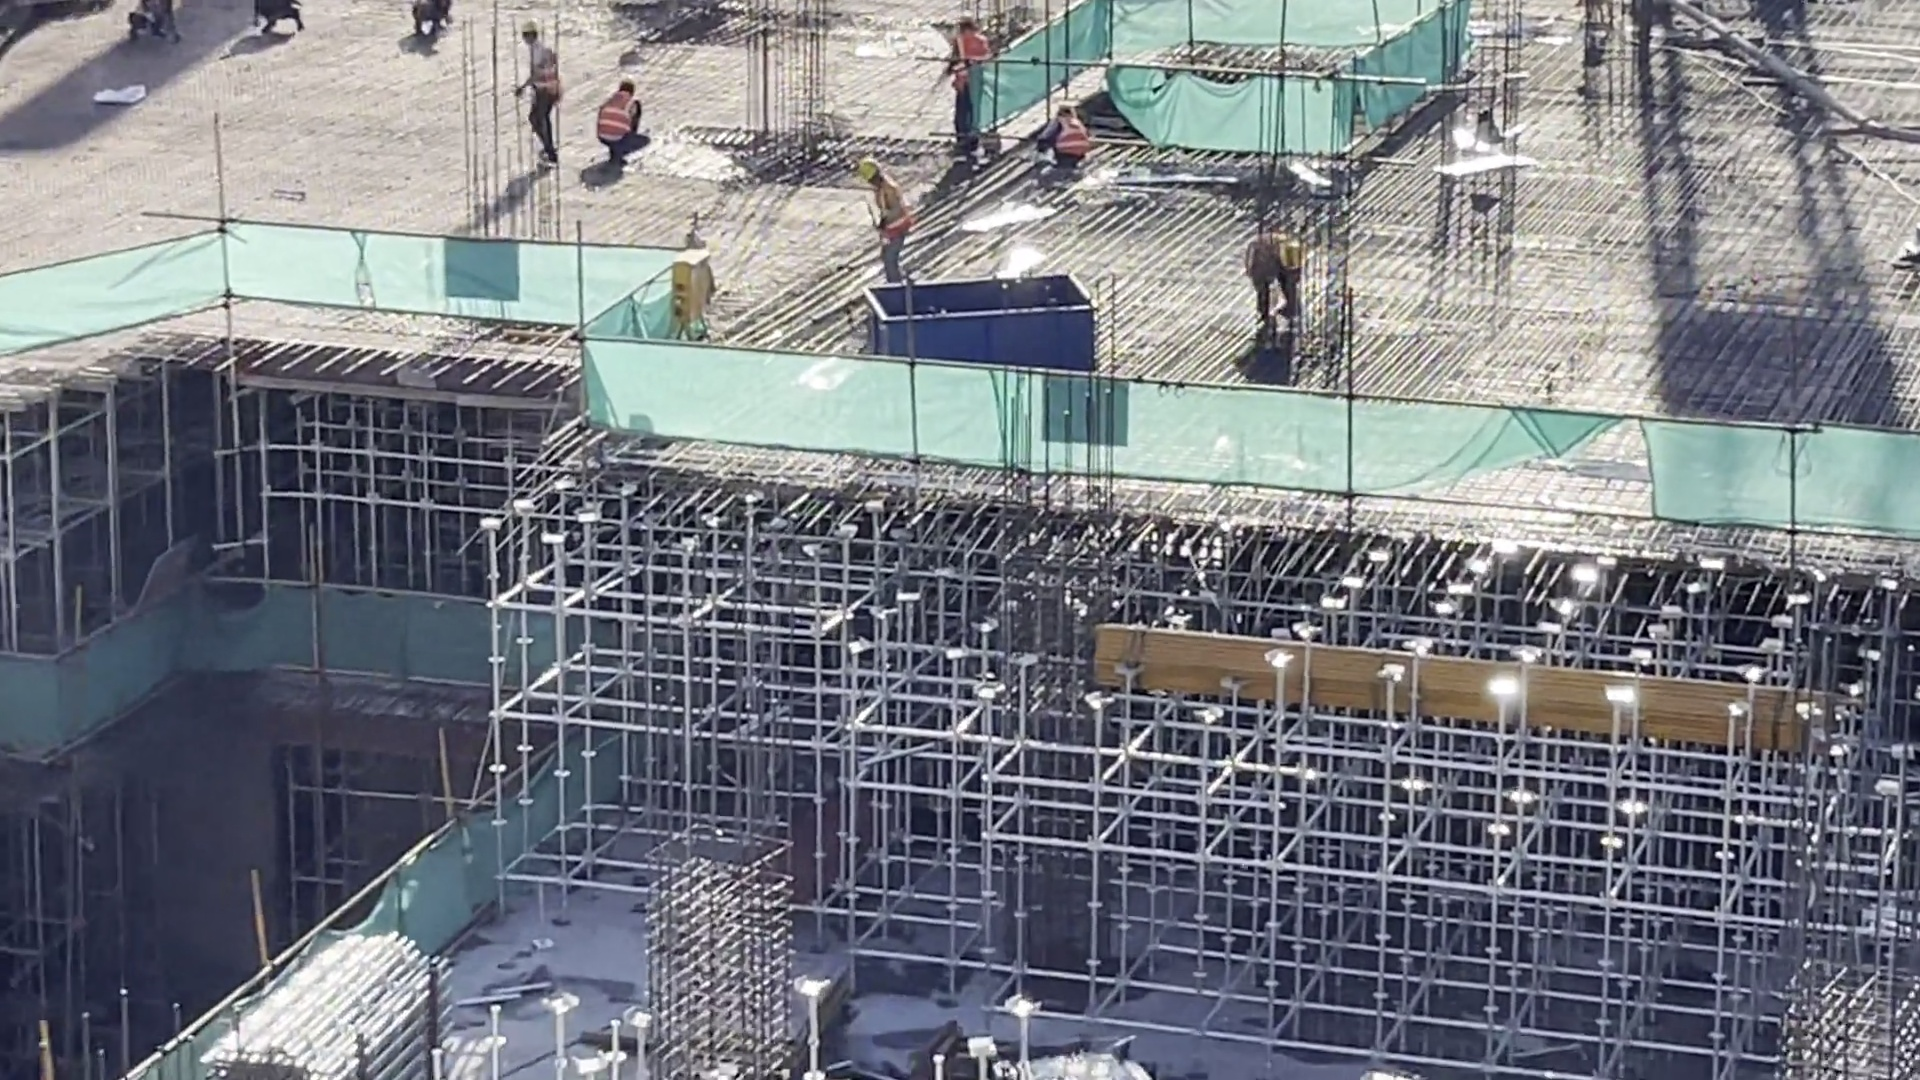ebox: (670, 231, 734, 332)
helmet: (508, 11, 543, 45), (614, 65, 644, 95), (1273, 235, 1297, 268), (851, 156, 881, 182), (956, 11, 978, 32), (1060, 97, 1075, 111)
hopper: (858, 274, 1104, 389)
person: (512, 19, 577, 175), (845, 153, 922, 286), (940, 9, 995, 143), (1248, 227, 1319, 319), (1034, 101, 1091, 186), (592, 75, 640, 172), (118, 1, 199, 45), (262, 1, 321, 41), (407, 1, 464, 41)
scaffold: (231, 919, 477, 1080)
vest: (879, 170, 915, 244), (596, 92, 633, 151), (525, 43, 563, 97), (1055, 115, 1085, 162), (953, 32, 981, 82)
